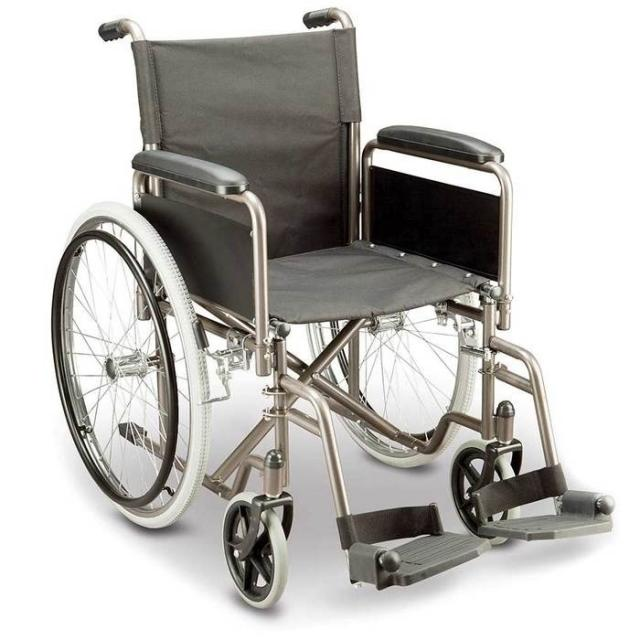wheelchair: (34, 6, 626, 614)
